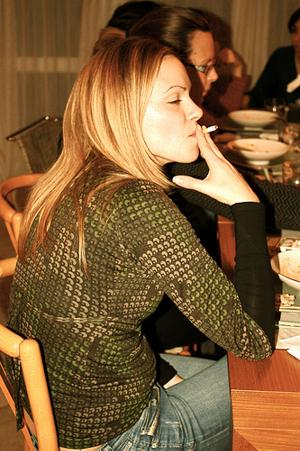person: (5, 27, 278, 451)
